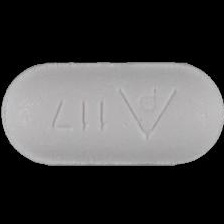0536-3985: (0, 0, 224, 224)
